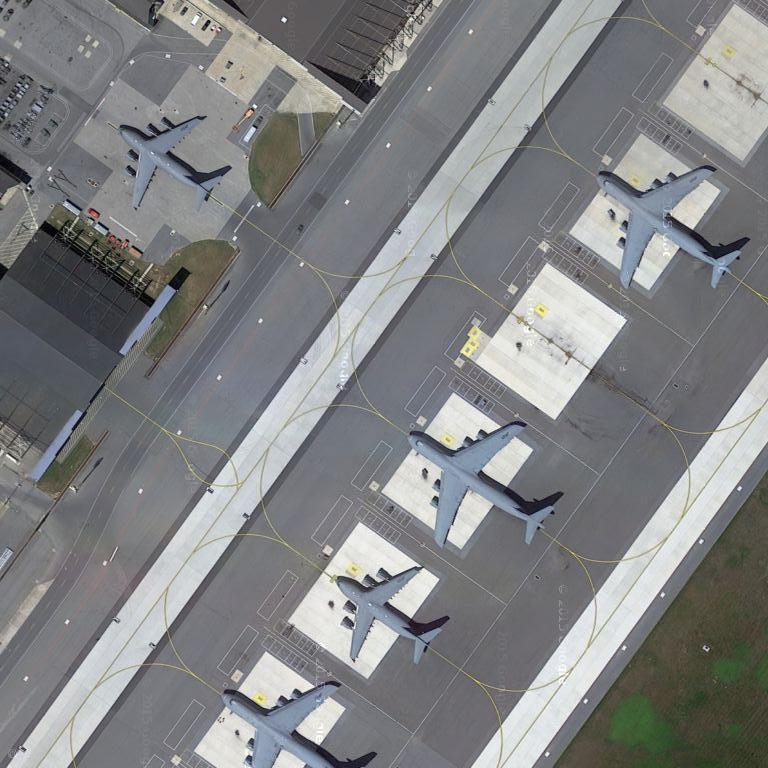C-17: (333, 563, 451, 669), (115, 109, 228, 216)
KC-135: (590, 159, 744, 295), (404, 416, 558, 551), (216, 672, 374, 768)
